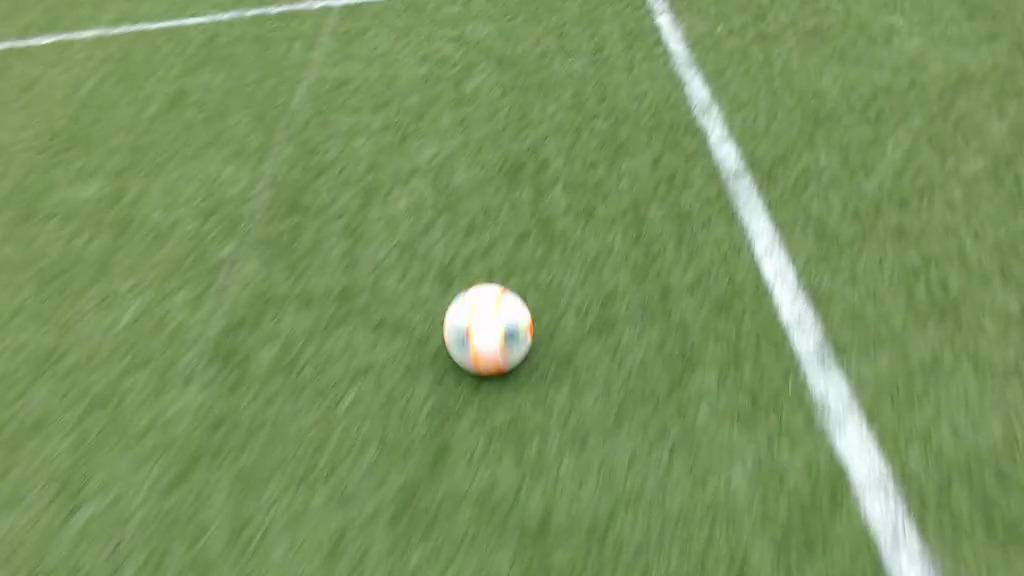ball: (444, 283, 533, 374)
